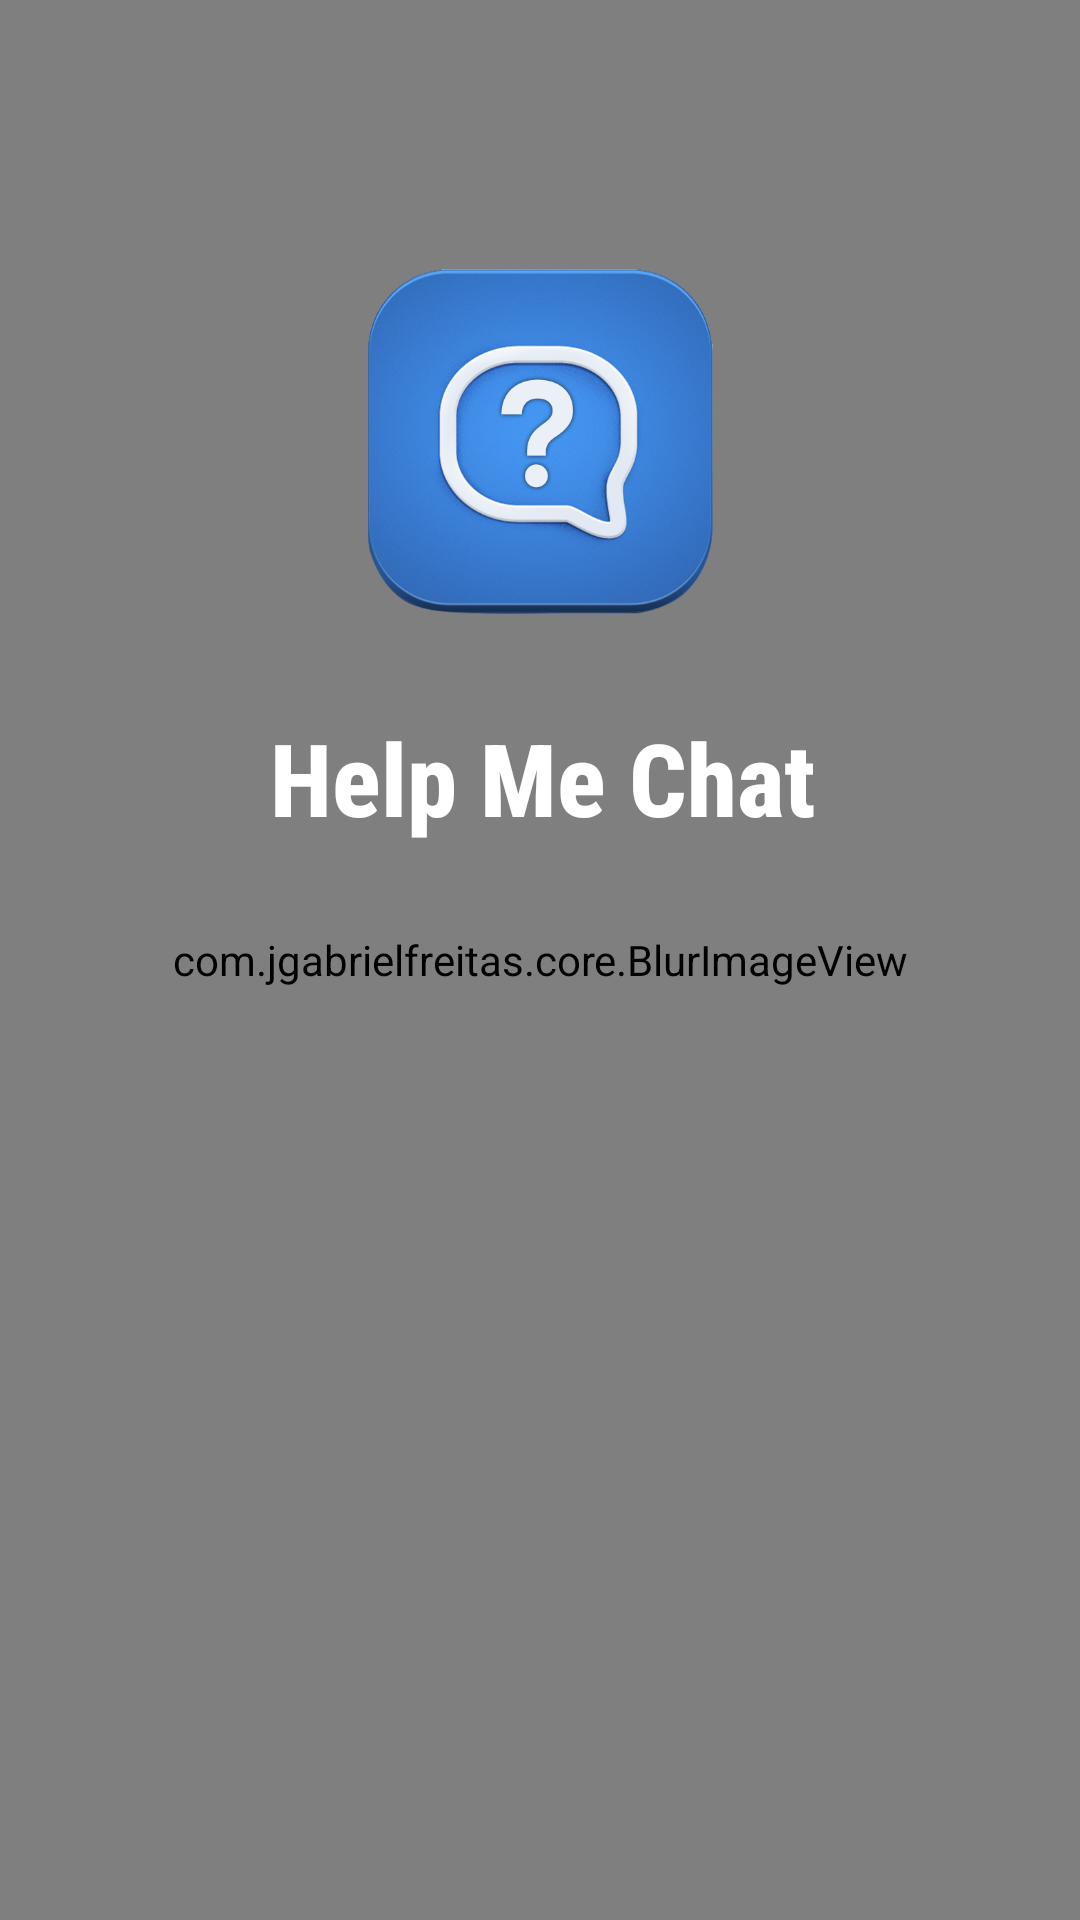

Where to tap for icons on this 1080px×1920px app screen, as (x=x, y=y):
app: (x=540, y=441)
